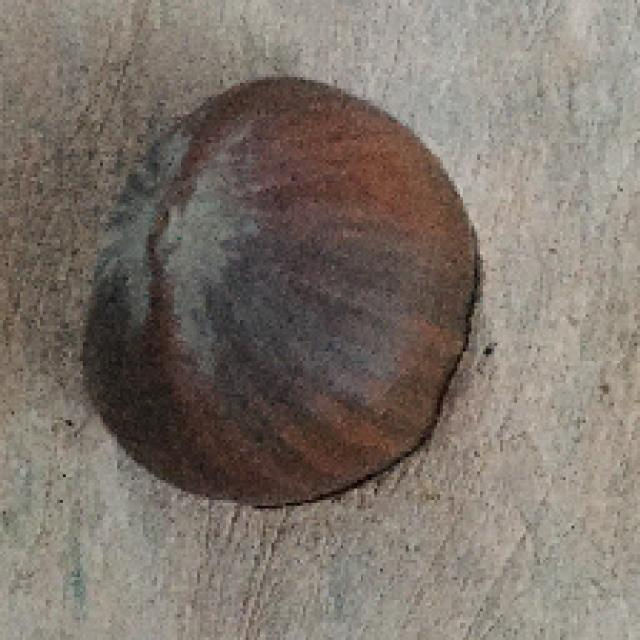damagedHazelnut: (82, 76, 498, 507)
